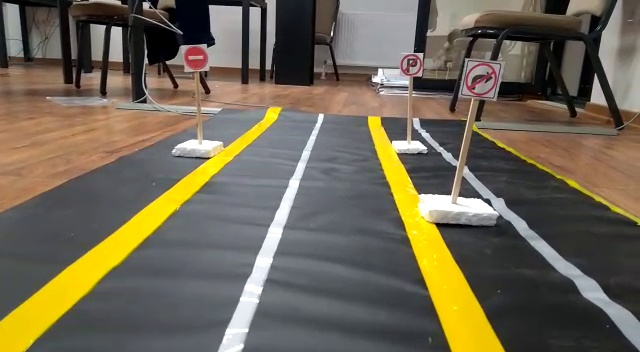girisi_olmayan_yol: (180, 42, 210, 70)
park_yapilmaz: (402, 54, 422, 75)
saga_donulmez: (464, 61, 494, 93)
